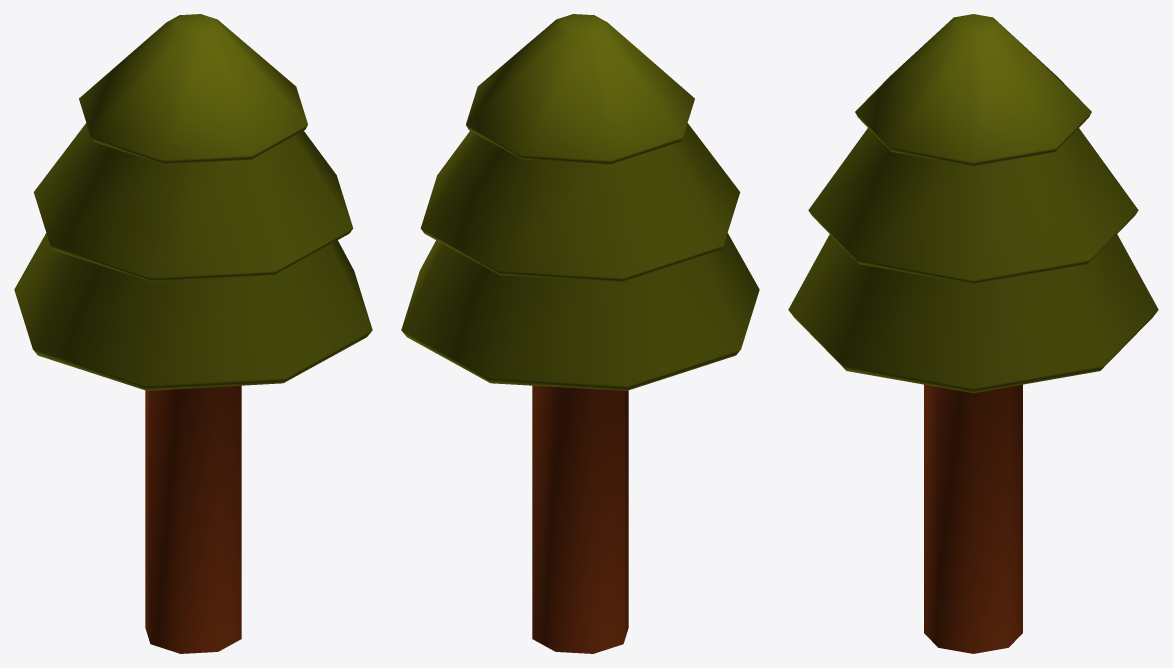
The model's file is Tree01.fbx.
3 views of the same model, side by side, from view 1: azimuth 30°, elevation 25°; view 2: azimuth 150°, elevation 25°; view 3: azimuth 270°, elevation 25° (orthographic).
Visible parts, largest first — view 1: Cube; view 2: Cube; view 3: Cube.
Part boxes in pixels (x1,y1,x2,y2): Cube: (14,14,372,653); Cube: (401,14,759,653); Cube: (788,14,1158,653).
Size of the model in its own units: 290 by 528 by 290.
Materials: 1 (1 with a texture image).
